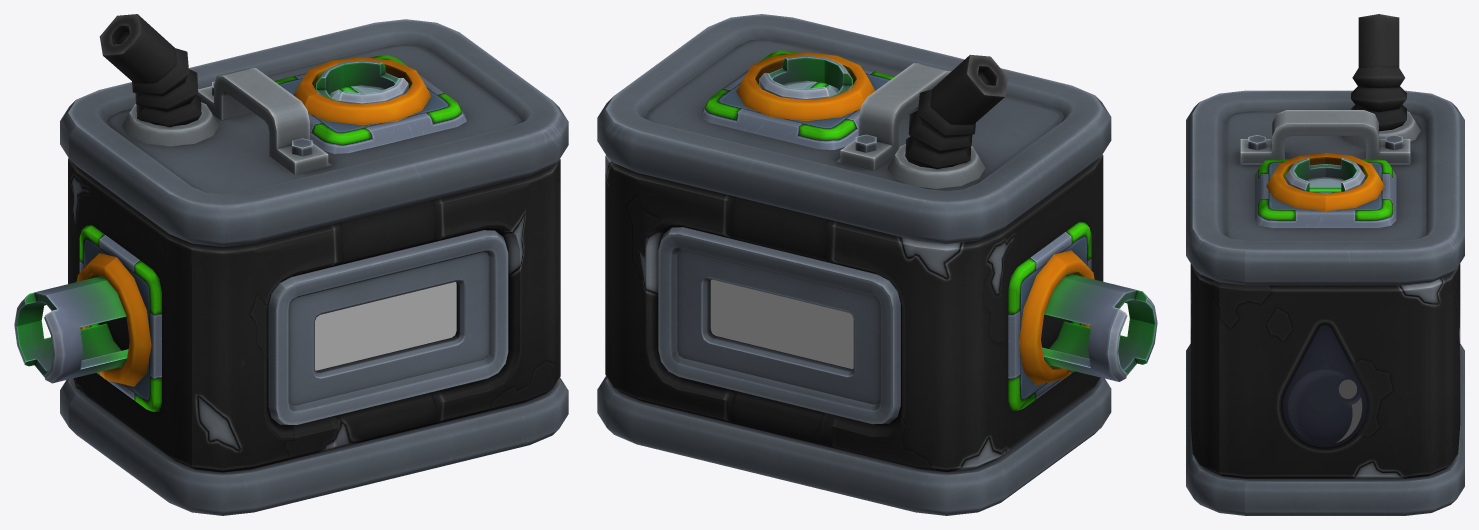
Rendered from obj_containers_gas_pose1.fbx.
3 renders of one model, left to right at view 1: azimuth 30°, elevation 25°; view 2: azimuth 150°, elevation 25°; view 3: azimuth 270°, elevation 25°, orthographic. The views are drawn at different scales.
Parts seen in each view (by area): view 1: obj_containers_gas_pose01; view 2: obj_containers_gas_pose01; view 3: obj_containers_gas_pose01.
Part boxes in pixels (box(x1,y1,x2,y2)): obj_containers_gas_pose01: box(14, 14, 568, 515); obj_containers_gas_pose01: box(597, 14, 1157, 515); obj_containers_gas_pose01: box(1186, 14, 1464, 515).
Size of the model in its own units: 4.99 by 4.2 by 2.94.
